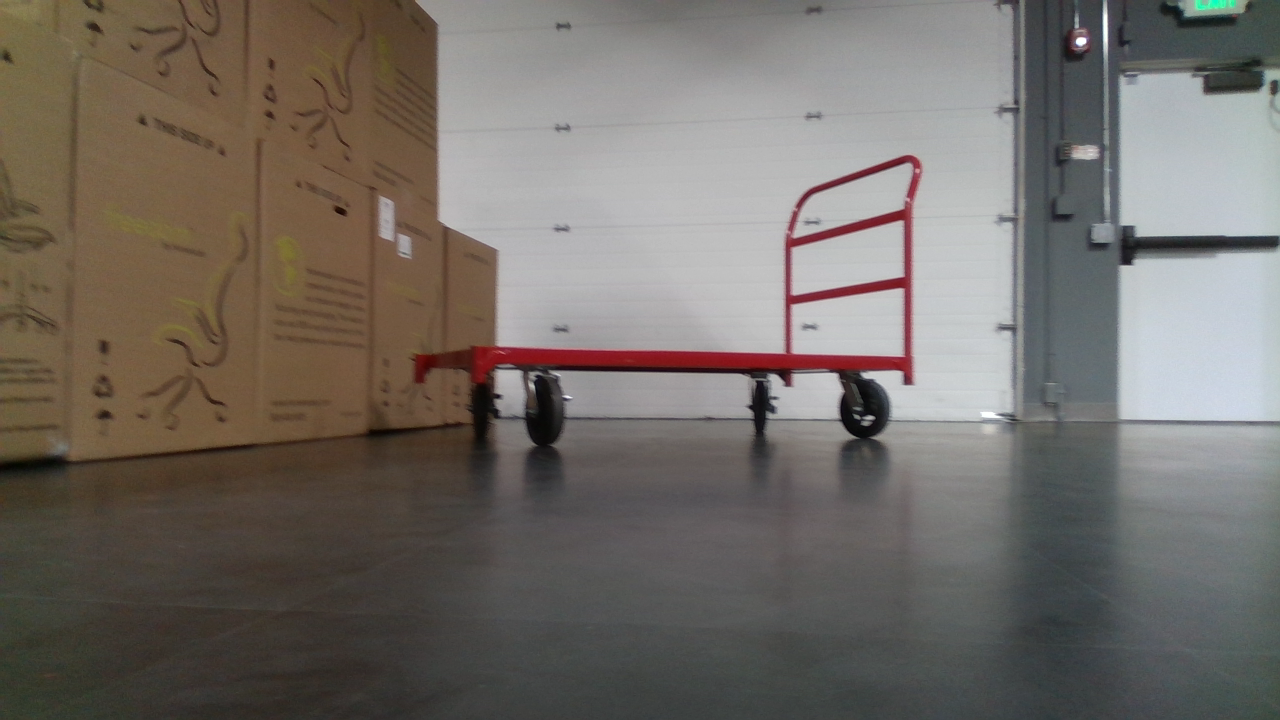Dolly: (406, 149, 928, 451)
Wheel: (522, 373, 566, 447), (838, 379, 890, 438), (469, 383, 501, 451), (747, 378, 778, 439)
